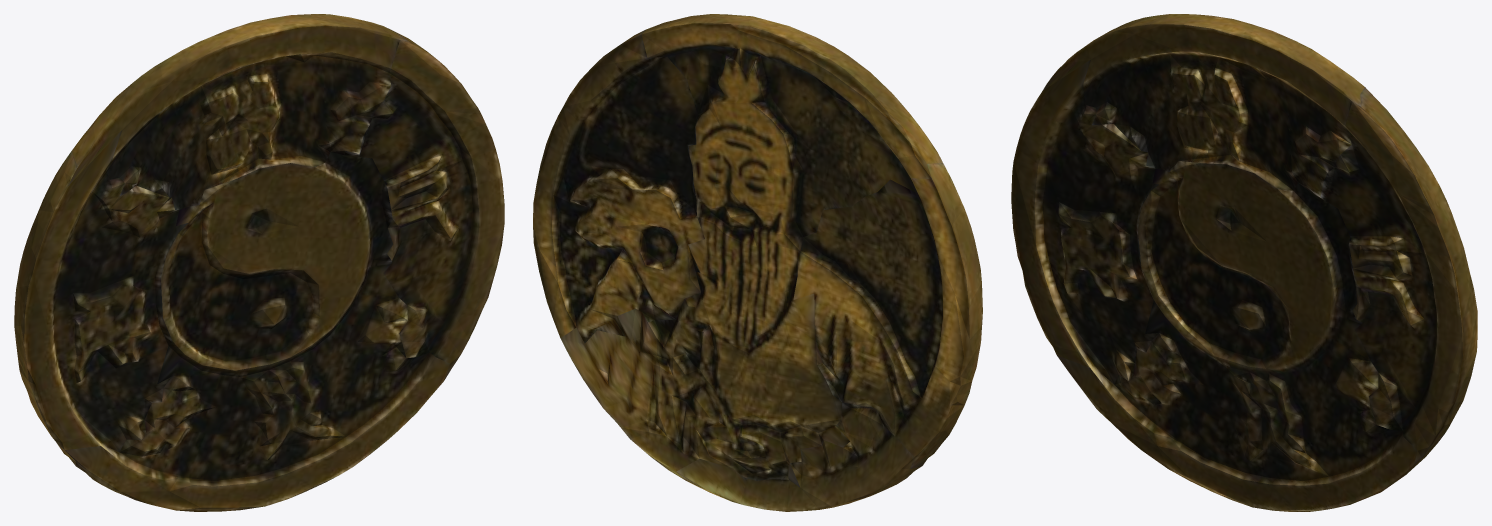
Rendered from item.currency.metal_coin.glb.
The picture shows the model from 3 angles, left to right: view 1: azimuth 30°, elevation 25°; view 2: azimuth 150°, elevation 25°; view 3: azimuth 330°, elevation 25°; orthographic projection. The views are drawn at different scales.
Visible parts, largest first — view 1: chinese_coin; view 2: chinese_coin; view 3: chinese_coin.
Part boxes in pixels (x1,y1,x2,y2): chinese_coin: (14, 14, 504, 511); chinese_coin: (533, 14, 982, 511); chinese_coin: (1011, 14, 1477, 511).
Size of the model in its own units: 1.2 by 1.19 by 0.1535.
Materials: 1 (1 with a texture image).
